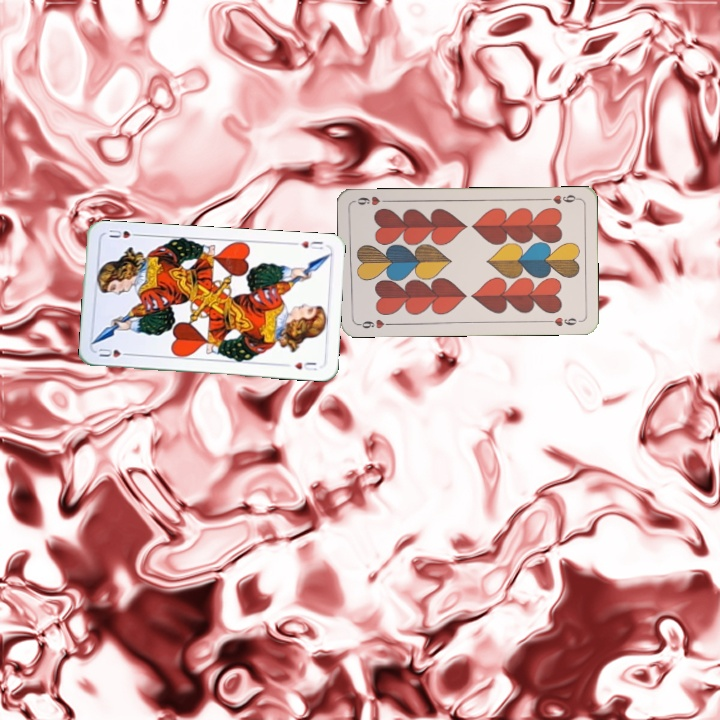H9: (540, 191, 581, 207), (353, 315, 394, 331)
HU: (95, 344, 134, 360), (297, 237, 325, 252)
